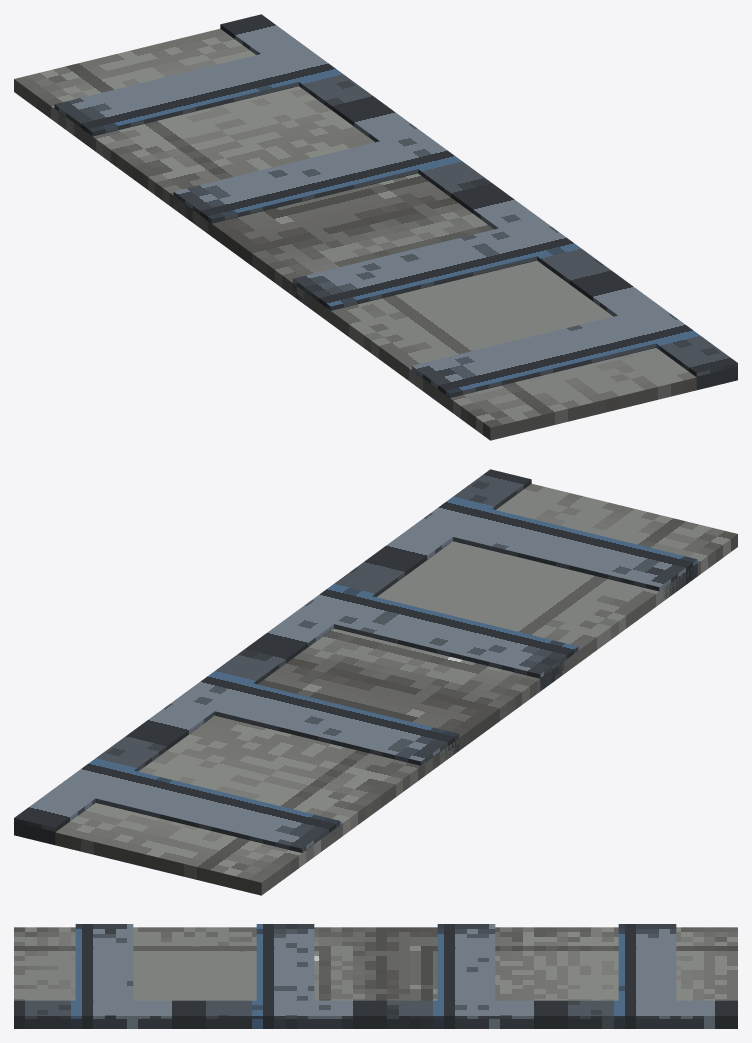
File: cf_lane_mark.glb
3 views of the same model, one above another, from view 1: azimuth 30°, elevation 25°; view 2: azimuth 150°, elevation 25°; view 3: azimuth 270°, elevation 25° (orthographic). The views are drawn at different scales.
Parts seen in each view (by area): view 1: lane_band, lane_kerb, lane_rib_1, lane_rib_2, lane_rib_3, lane_rib_0; view 2: lane_band, lane_kerb, lane_rib_0, lane_rib_1, lane_rib_2, lane_rib_3; view 3: lane_band, lane_kerb, lane_rib_0, lane_rib_1, lane_rib_2, lane_rib_3.
Boxes of the visible parts, left/top/right/bottom form: lane_band: left=14, top=28, right=696, bottom=440; lane_kerb: left=220, top=14, right=737, bottom=390; lane_rib_1: left=292, top=228, right=536, bottom=310; lane_rib_2: left=173, top=141, right=417, bottom=233; lane_rib_3: left=54, top=54, right=298, bottom=148; lane_rib_0: left=411, top=315, right=656, bottom=397; lane_band: left=55, top=483, right=737, bottom=895; lane_kerb: left=14, top=469, right=531, bottom=845; lane_rib_0: left=453, top=509, right=697, bottom=602; lane_rib_1: left=334, top=596, right=578, bottom=691; lane_rib_2: left=215, top=683, right=459, bottom=765; lane_rib_3: left=95, top=770, right=340, bottom=852; lane_band: left=14, top=927, right=737, bottom=1000; lane_kerb: left=14, top=1000, right=737, bottom=1028; lane_rib_0: left=75, top=924, right=133, bottom=1000; lane_rib_1: left=256, top=924, right=314, bottom=1000; lane_rib_2: left=437, top=924, right=495, bottom=1000; lane_rib_3: left=618, top=924, right=676, bottom=1000.
Bounding box in the file's own units: 0.6 × 0.04 × 2.
2 materials, 2 textured.
